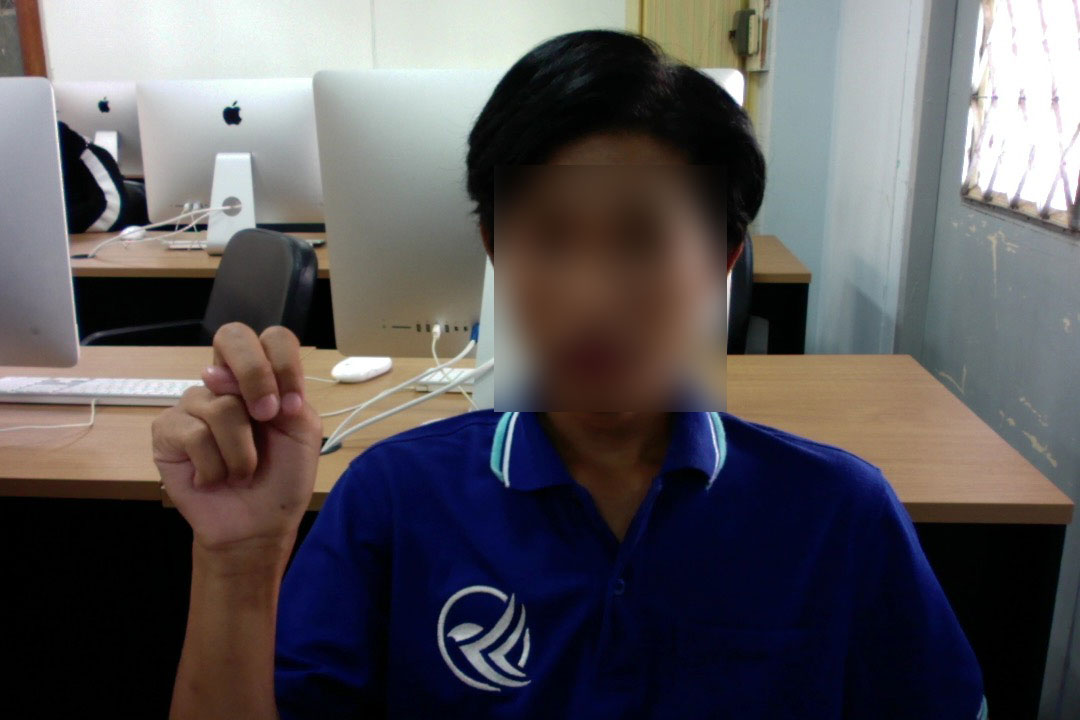nor: (145, 302, 325, 581)
